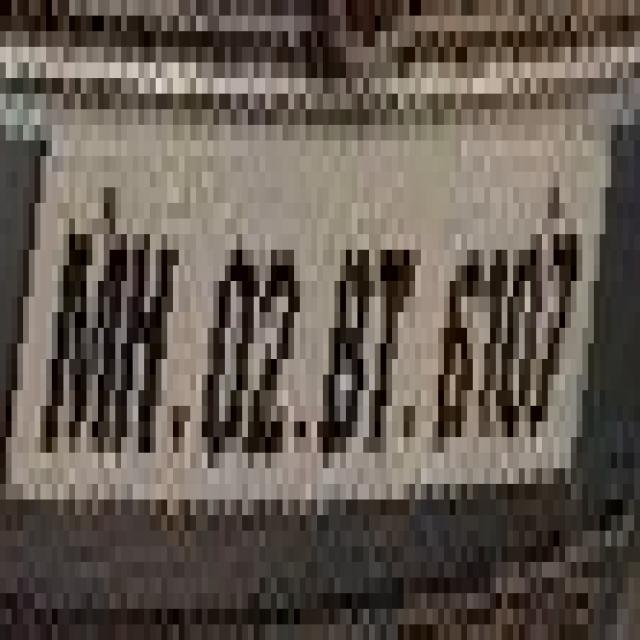license_plate: (23, 78, 640, 515)
